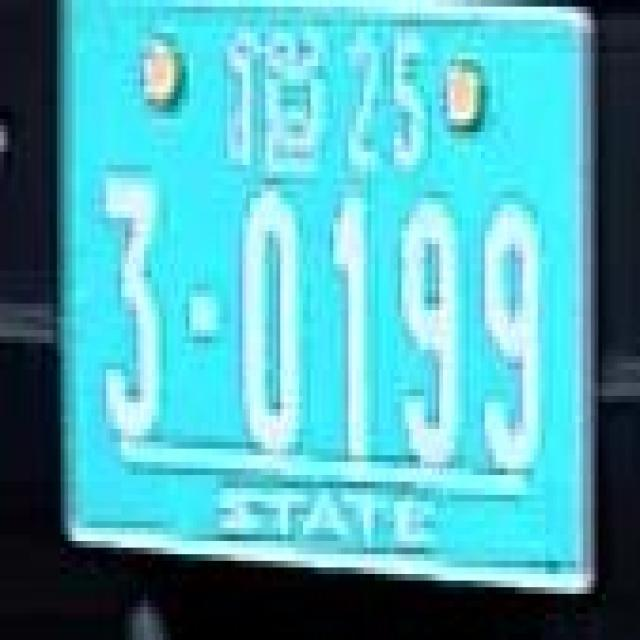State: (227, 27, 324, 181)
